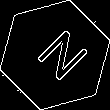N_SW: (23, 23, 87, 87)
